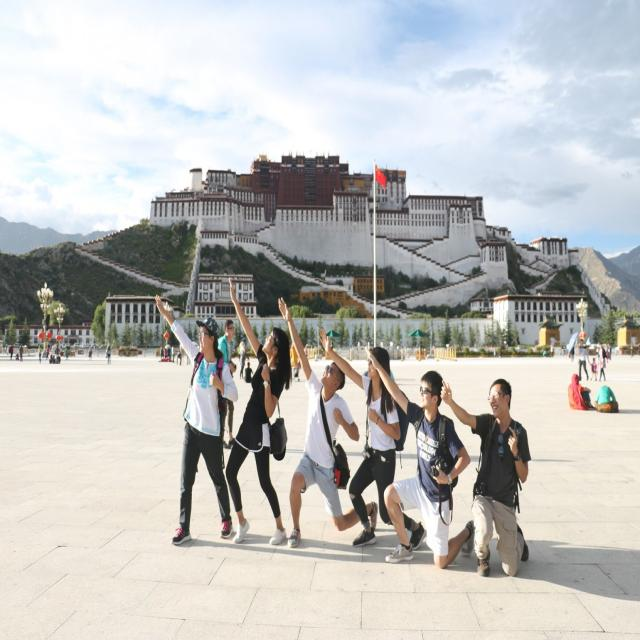body: (274, 295, 379, 551), (362, 342, 478, 572), (318, 325, 430, 553), (152, 292, 236, 548), (222, 273, 295, 548), (437, 375, 534, 581), (214, 314, 240, 452), (289, 342, 310, 382), (159, 342, 192, 366), (593, 385, 619, 414), (542, 340, 575, 362), (577, 374, 596, 410), (576, 336, 590, 381), (237, 337, 249, 381), (597, 341, 608, 382), (312, 338, 334, 354), (418, 337, 436, 354), (588, 357, 598, 382), (245, 361, 254, 383), (628, 342, 640, 358), (604, 339, 612, 361), (48, 352, 62, 364), (492, 347, 503, 361), (105, 341, 111, 365), (37, 343, 43, 363), (18, 343, 24, 362), (8, 343, 14, 361), (87, 345, 93, 361), (64, 344, 69, 362), (46, 343, 50, 359), (14, 352, 20, 361)
